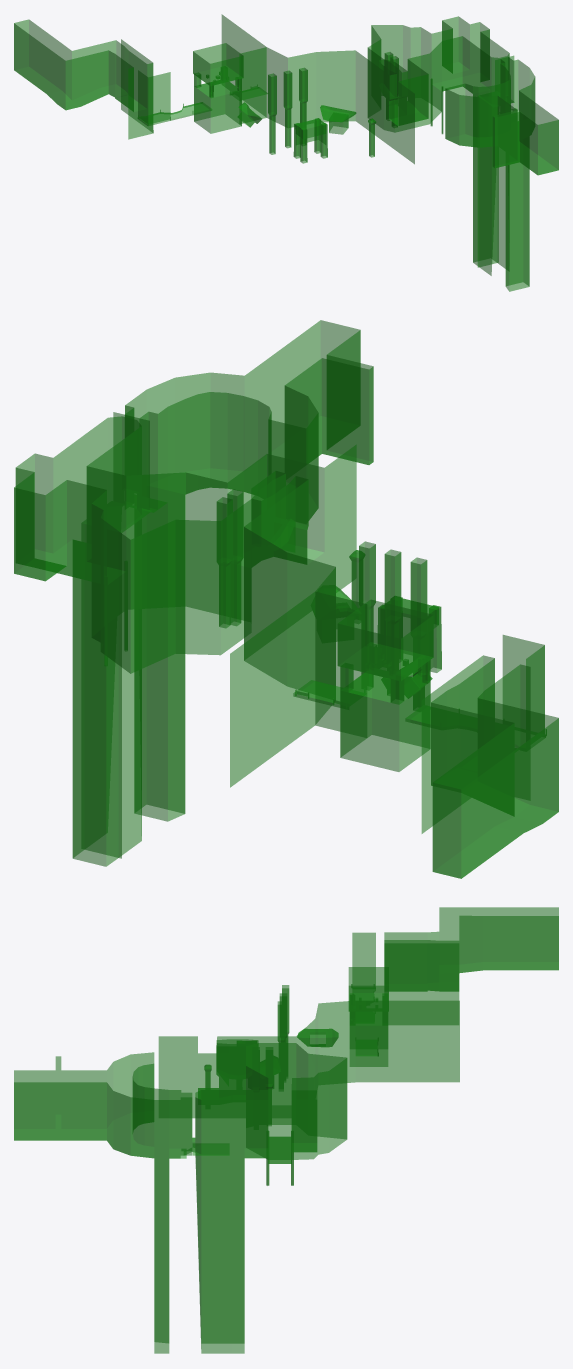
File: stg161_A_floor.obj
3 views of the same model, one above another, from view 1: azimuth 30°, elevation 25°; view 2: azimuth 150°, elevation 25°; view 3: azimuth 270°, elevation 25° (orthographic). The views are drawn at different scales.
Bounding box in the file's own units: 218 × 130 × 253.
